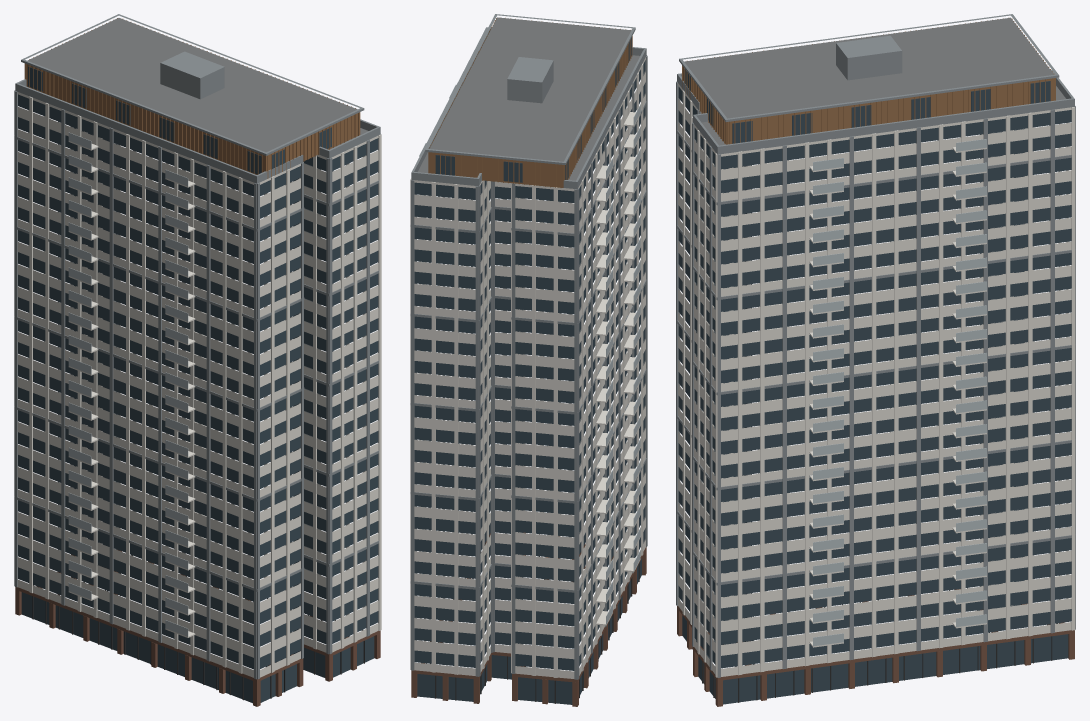
The model's file is stebbing_house.glb.
3 views of the same model, side by side, from view 1: azimuth 30°, elevation 25°; view 2: azimuth 150°, elevation 25°; view 3: azimuth 270°, elevation 25° (orthographic). The views are drawn at different scales.
Bounding box in the file's own units: 29.49 × 69.54 × 41.94.
